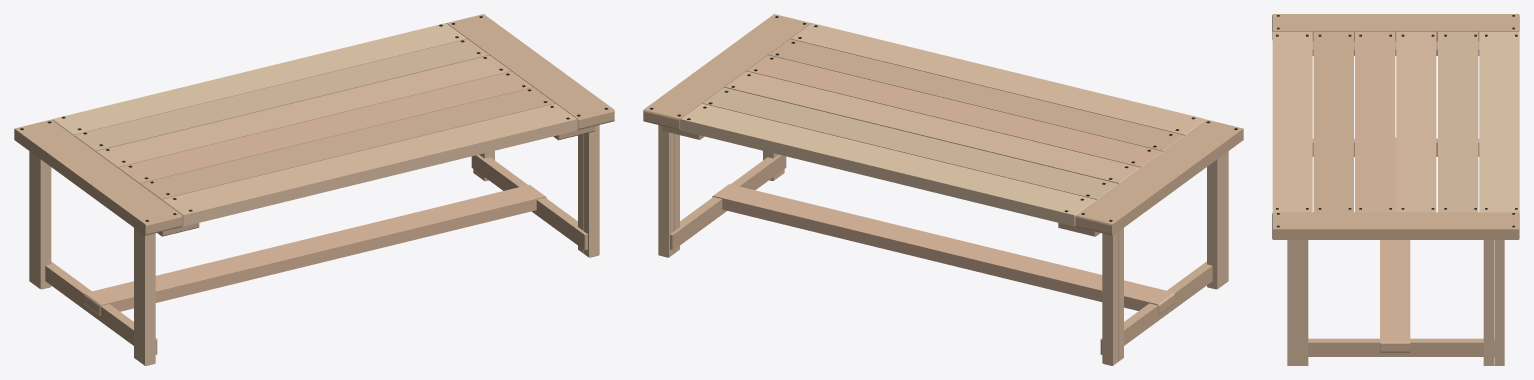
The model's file is WoodenTable_03 (Updated).fbx.
3 renders of one model, left to right at view 1: azimuth 30°, elevation 25°; view 2: azimuth 150°, elevation 25°; view 3: azimuth 270°, elevation 25°, orthographic. The views are drawn at different scales.
Parts seen in each view (by area): view 1: WoodenTable_03; view 2: WoodenTable_03; view 3: WoodenTable_03.
Part boxes in pixels (<box>): WoodenTable_03: <box>14,14,614,365</box>; WoodenTable_03: <box>643,14,1243,365</box>; WoodenTable_03: <box>1272,14,1519,365</box>.
Bounding box in the file's own units: 30.37 × 9.27 × 14.74.
